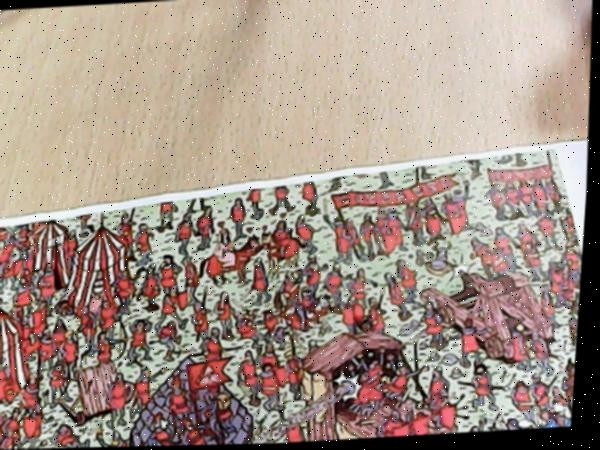waldo: (356, 317, 378, 337)
